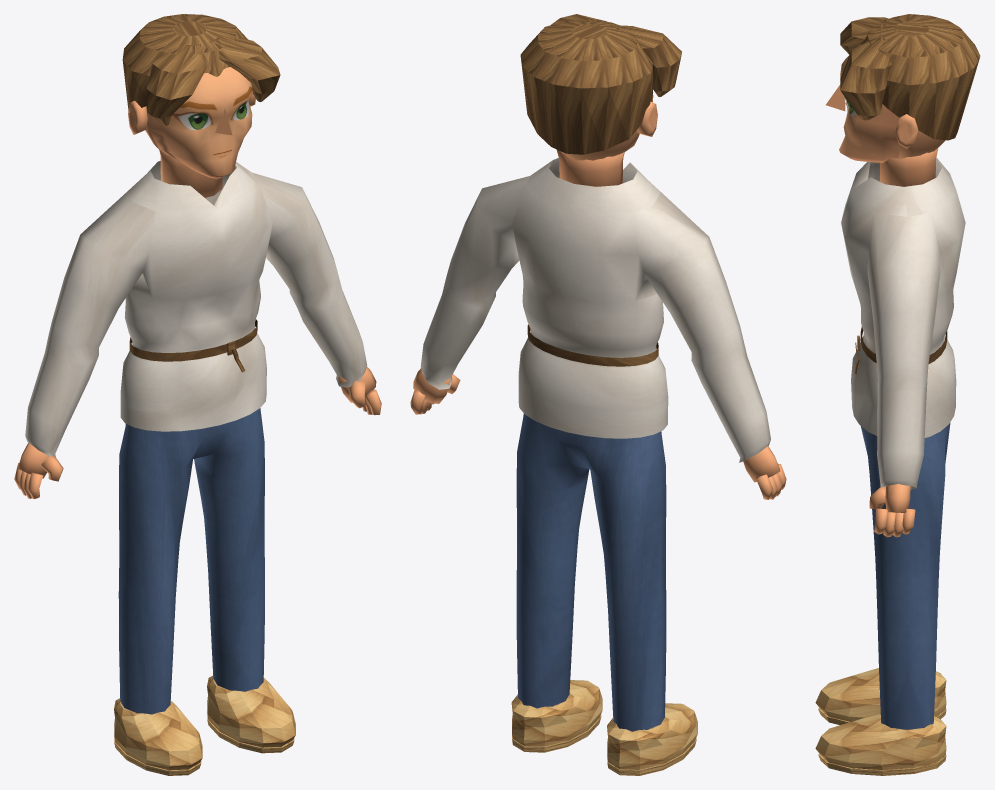
Rendered from peasant_youth.glb.
3 views of the same model, side by side, from view 1: azimuth 30°, elevation 25°; view 2: azimuth 150°, elevation 25°; view 3: azimuth 270°, elevation 25° (orthographic). The views are drawn at different scales.
Visible parts, largest first — view 1: PeasantYouth_Mesh; view 2: PeasantYouth_Mesh; view 3: PeasantYouth_Mesh.
Part boxes in pixels (x1=…): PeasantYouth_Mesh: x1=14, y1=14, x2=381, y2=775; PeasantYouth_Mesh: x1=410, y1=14, x2=786, y2=775; PeasantYouth_Mesh: x1=815, y1=14, x2=980, y2=775.
Bounding box in the file's own units: 0.9625 × 1.8 × 0.3803.
1 material, 1 textured.
